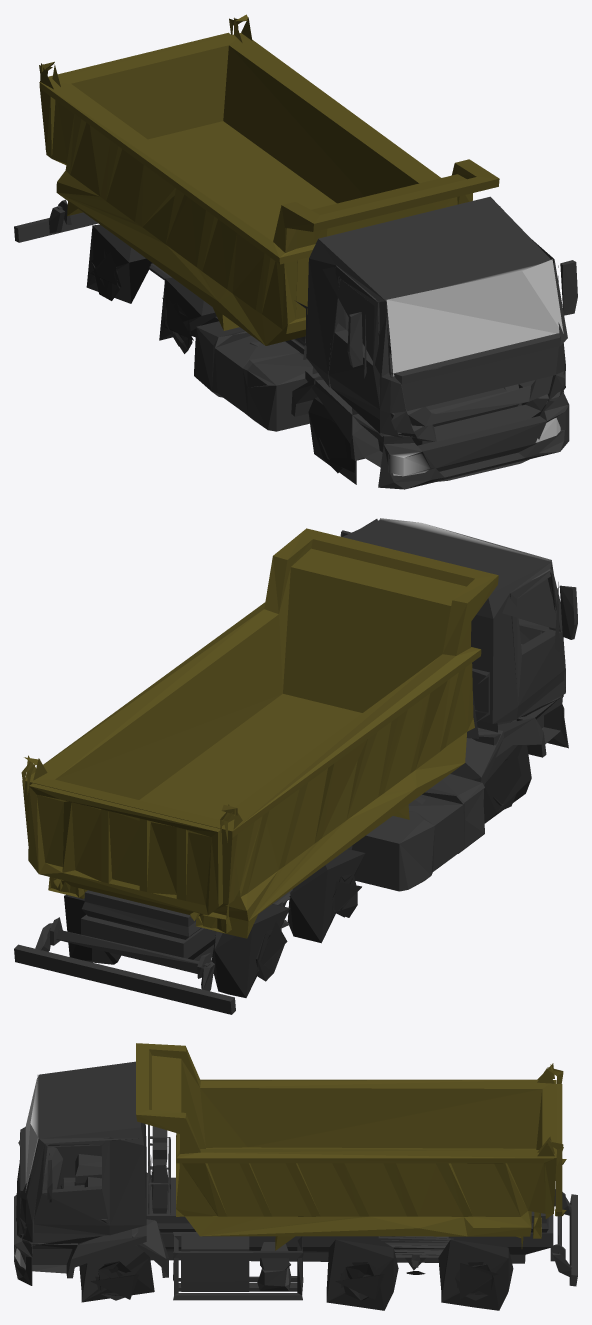
The model's file is dump-truck.lod0.glb.
3 views of the same model, one above another, from view 1: azimuth 30°, elevation 25°; view 2: azimuth 150°, elevation 25°; view 3: azimuth 270°, elevation 25° (orthographic). The views are drawn at different scales.
Visible parts, largest first — view 1: dump_truck_01_M_dumb_truck_B_01_0; view 2: dump_truck_01_M_dumb_truck_B_01_0; view 3: dump_truck_01_M_dumb_truck_B_01_0.
Part boxes in pixels (bbox=[...]): dump_truck_01_M_dumb_truck_B_01_0: bbox=[14, 14, 577, 489]; dump_truck_01_M_dumb_truck_B_01_0: bbox=[14, 518, 577, 1014]; dump_truck_01_M_dumb_truck_B_01_0: bbox=[14, 1043, 577, 1310].
Bounding box in the file's own units: 2.38 × 2.57 × 6.44.
